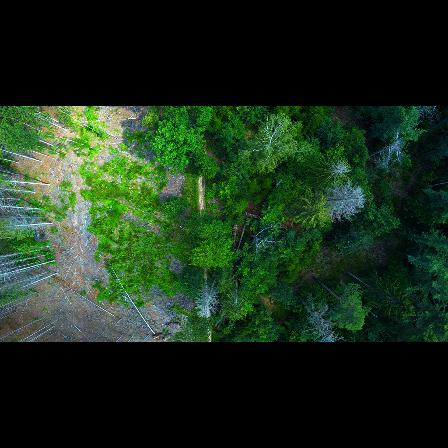Dead: (298, 294, 350, 342), (317, 182, 369, 220), (365, 132, 409, 169), (191, 279, 220, 322)
Sick: (316, 156, 355, 181)
